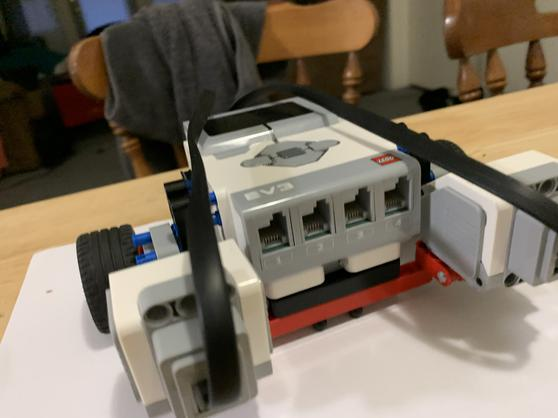robot: (79, 92, 558, 418)
